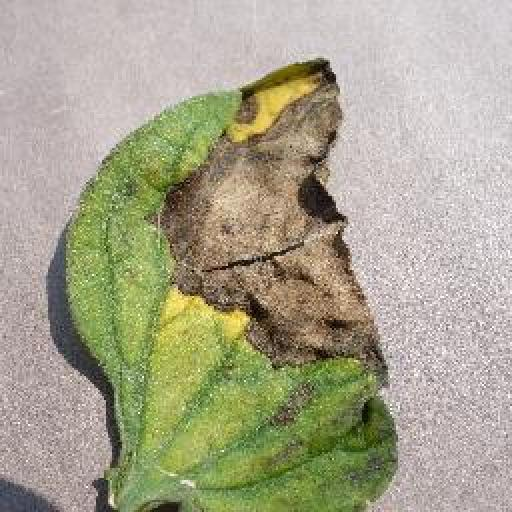disease_tomato: (64, 57, 401, 512)
